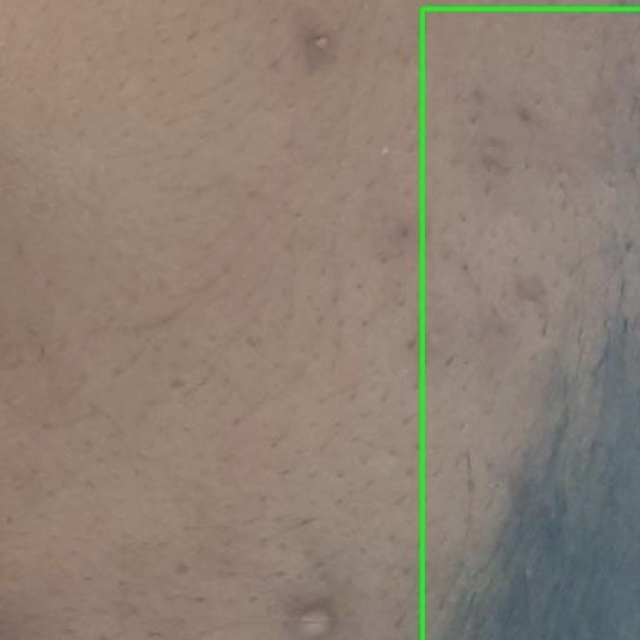Seborrheic Dermatitis: (422, 9, 639, 639)
